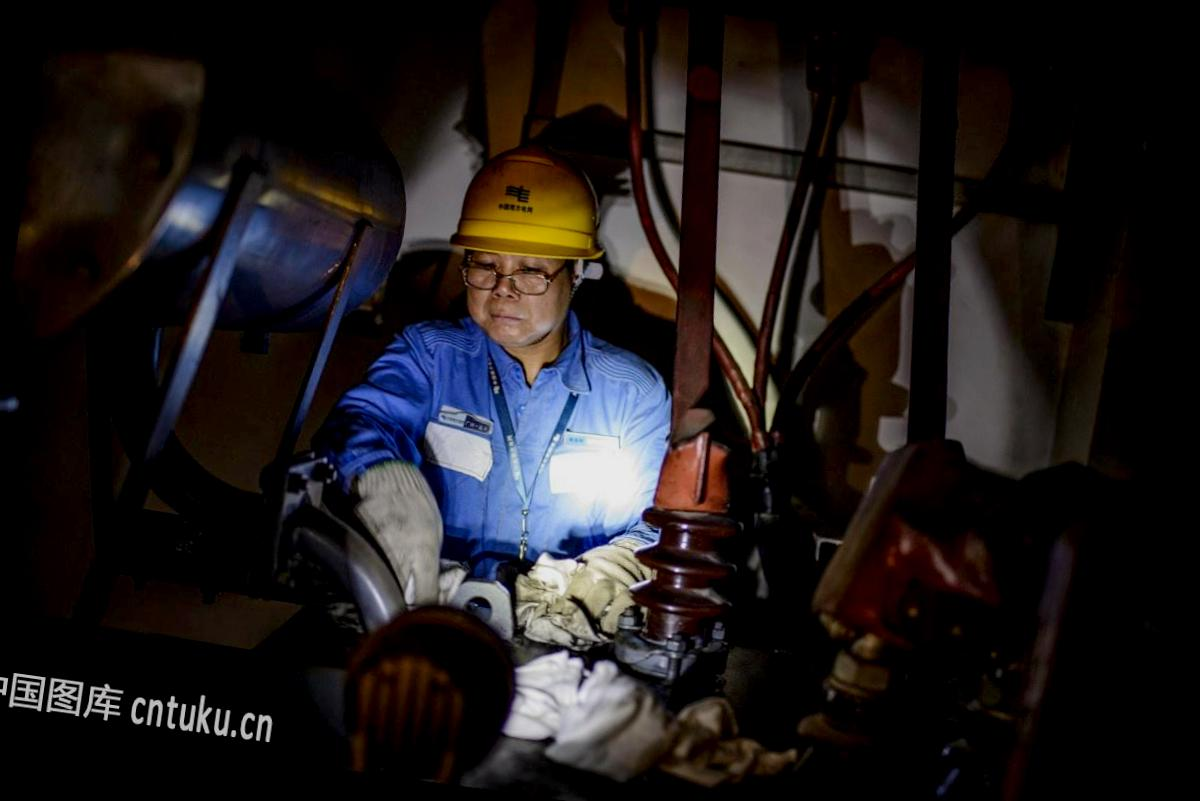helmet: (441, 135, 607, 272)
no_vest: (374, 307, 658, 584)
person: (270, 120, 746, 774)
